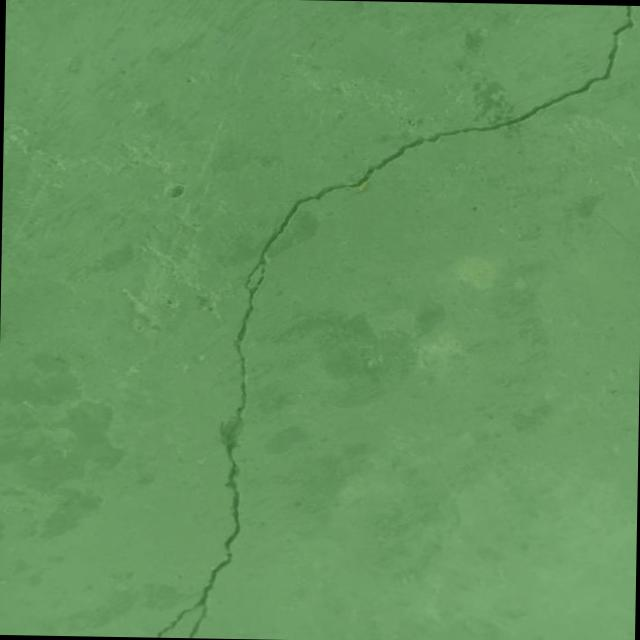crack: (155, 0, 633, 640)
